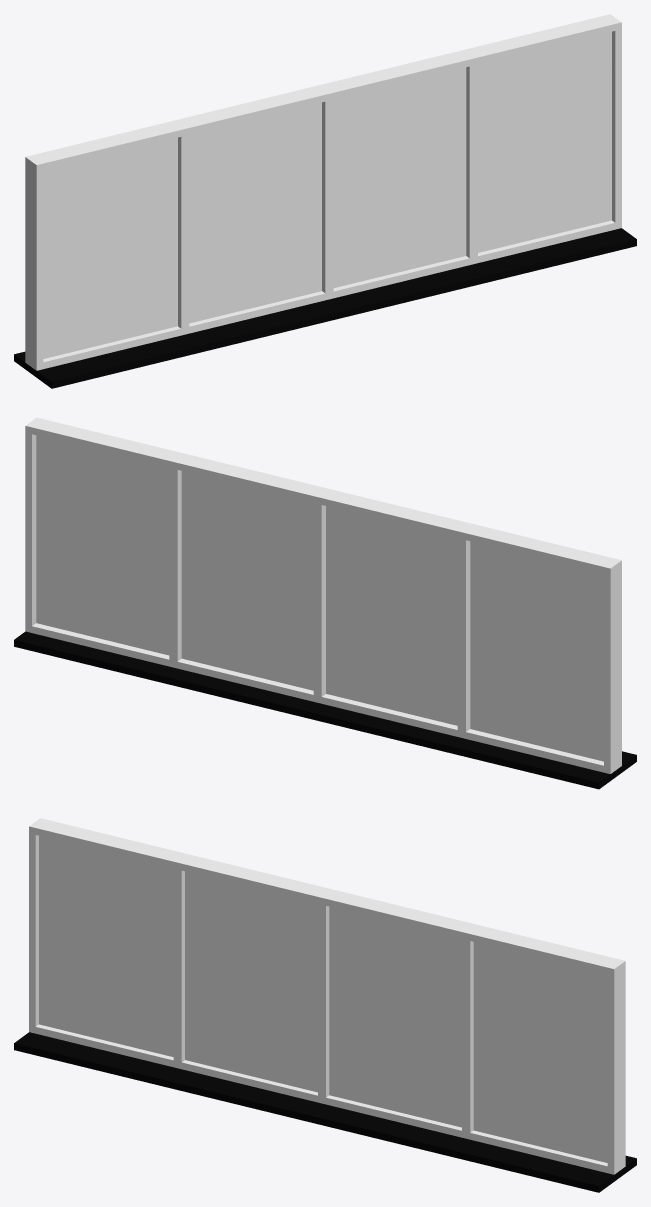
The model's file is wyA.fbx.
3 views of the same model, one above another, from view 1: azimuth 30°, elevation 25°; view 2: azimuth 150°, elevation 25°; view 3: azimuth 330°, elevation 25° (orthographic).
Visible parts, largest first — view 1: glass, i; view 2: glass, i; view 3: glass, i.
Boxes of the visible parts, bbox=[...] form: glass: bbox=[43, 31, 611, 358]; i: bbox=[14, 14, 636, 388]; glass: bbox=[36, 435, 603, 761]; i: bbox=[14, 417, 636, 789]; glass: bbox=[39, 835, 607, 1162]; i: bbox=[14, 818, 636, 1192].
Size of the model in its own units: 35.71 by 12.39 by 4.
